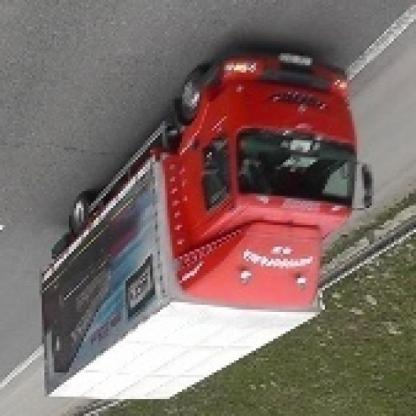truck: (41, 44, 373, 410)
